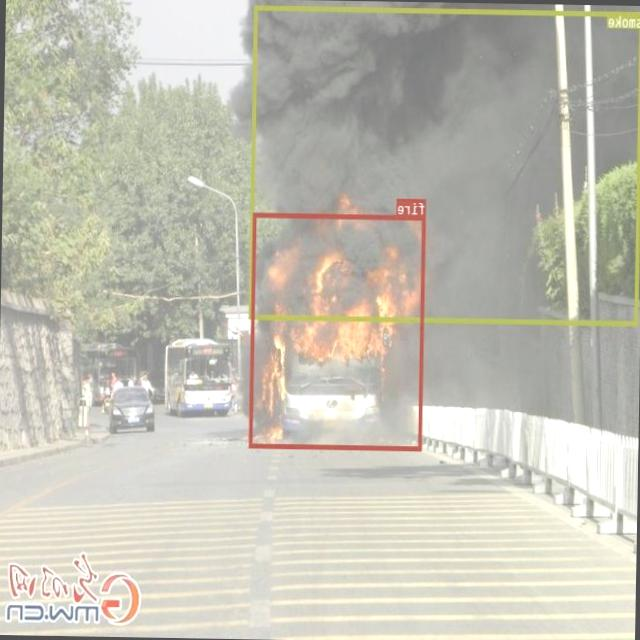fire: (249, 212, 426, 449)
smoke: (249, 3, 640, 324)
